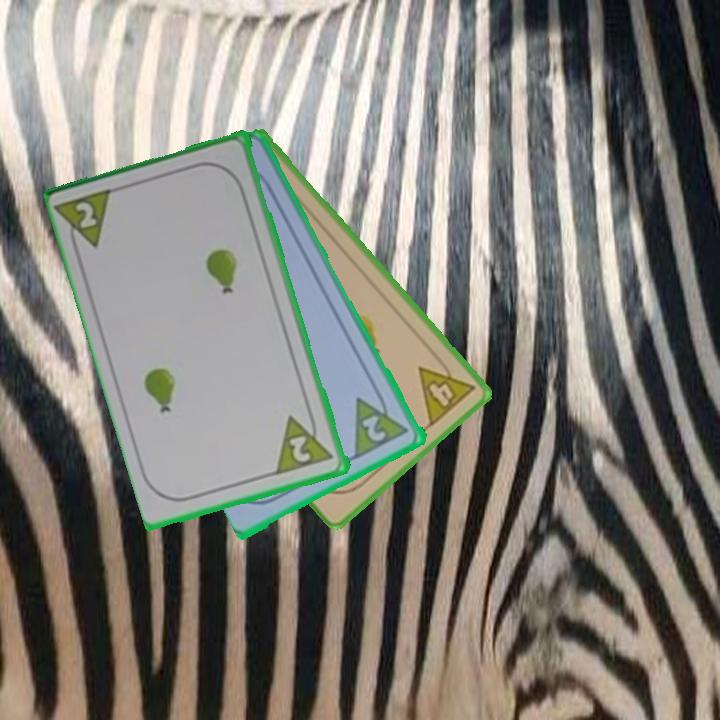2p: (55, 184, 119, 259), (351, 385, 413, 462), (273, 407, 337, 478)
4p: (414, 350, 478, 430)
